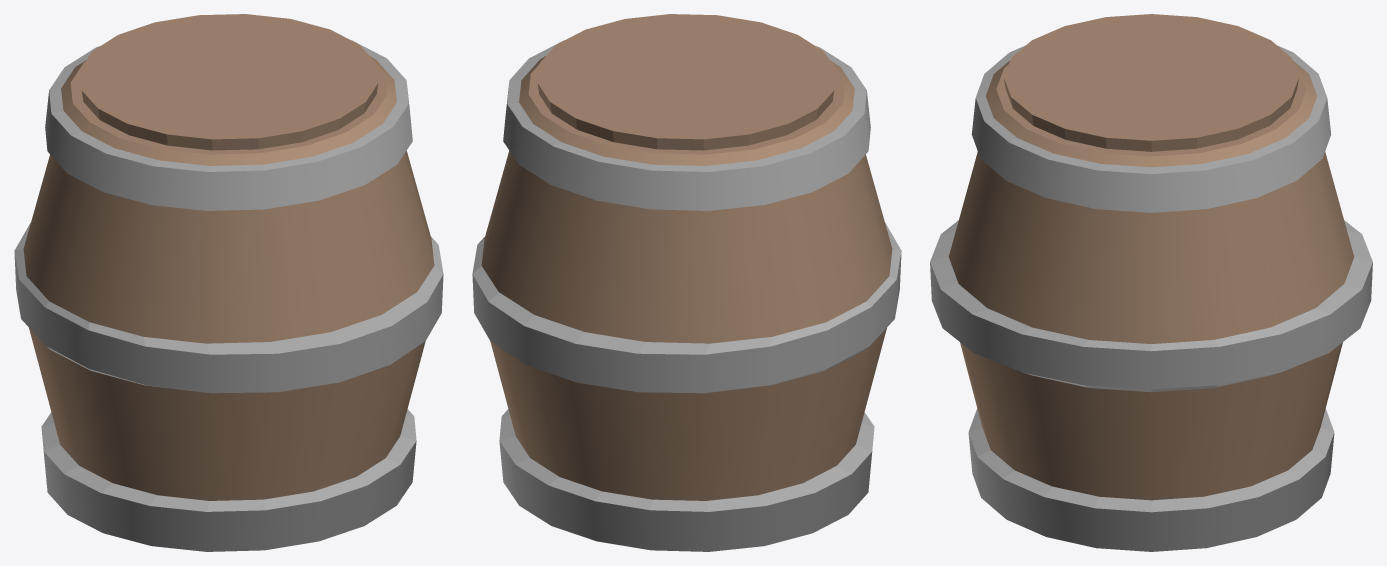
File: Mod_Barrel.fbx
3 renders of one model, left to right at view 1: azimuth 30°, elevation 25°; view 2: azimuth 150°, elevation 25°; view 3: azimuth 270°, elevation 25°, orthographic.
Visible parts, largest first — view 1: barrel; view 2: barrel; view 3: barrel.
Boxes of the visible parts, x1,y1,x2,y2 form: barrel: [14, 14, 443, 551]; barrel: [472, 14, 901, 551]; barrel: [930, 14, 1372, 551].
Size of the model in its own units: 112 by 115 by 117.
